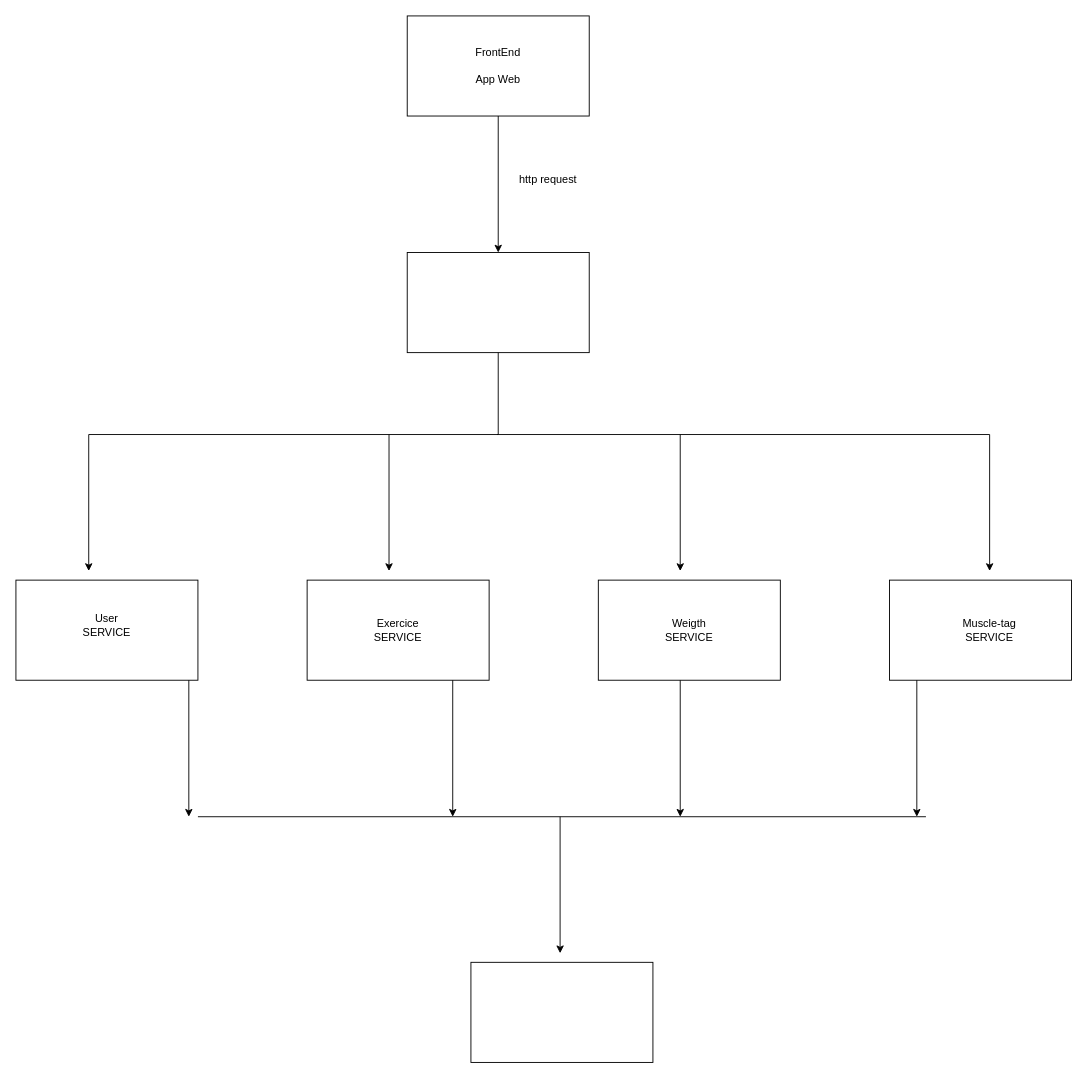
Some shapes in this 1087 by 1078 pixel diagram are drawn without their labels. The box of each missing label's shape, as (x1, y1, x2, y2) in pixels:
API Backend serveur: (406, 252, 589, 353)
DATABASES MYSQL: (470, 961, 653, 1062)
